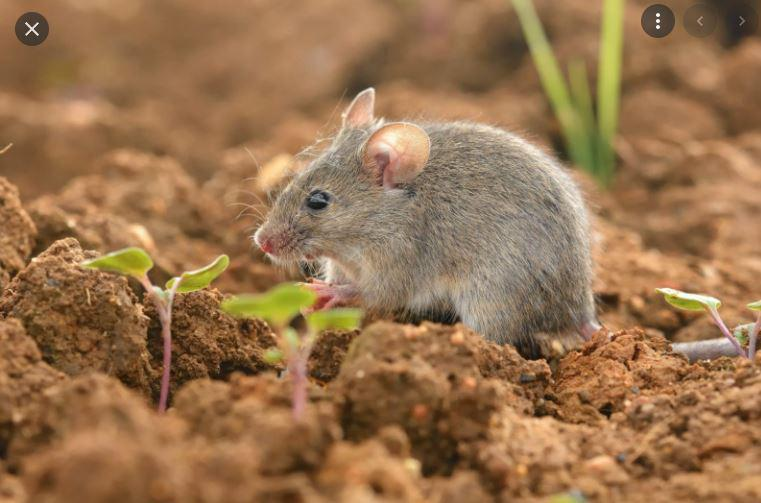rat: (252, 87, 600, 349)
